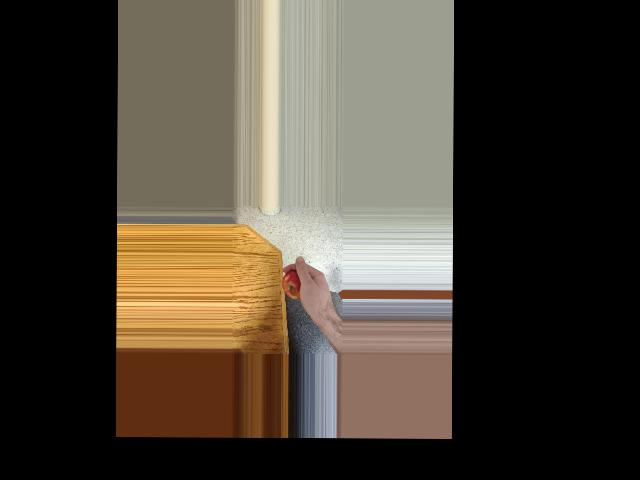apple: (279, 269, 315, 303)
